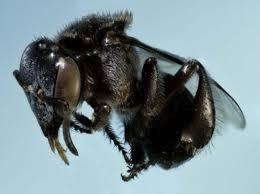Braunsapis: (14, 8, 247, 184)
